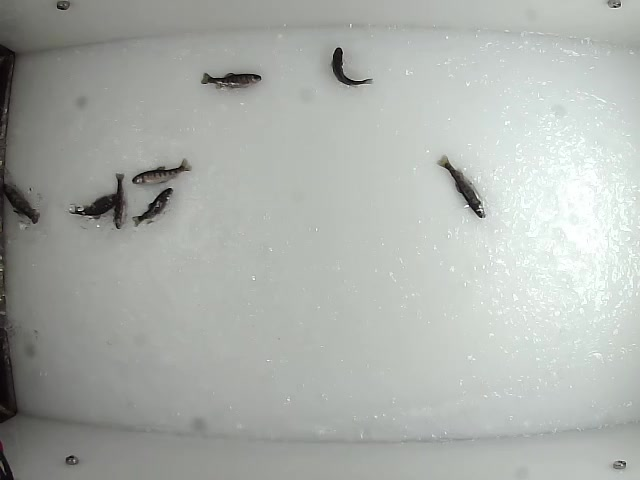fish: (435, 154, 488, 221), (328, 43, 375, 88), (129, 184, 177, 226), (129, 156, 194, 186), (1, 180, 42, 227), (67, 190, 125, 220), (200, 69, 264, 91), (113, 169, 129, 227)
